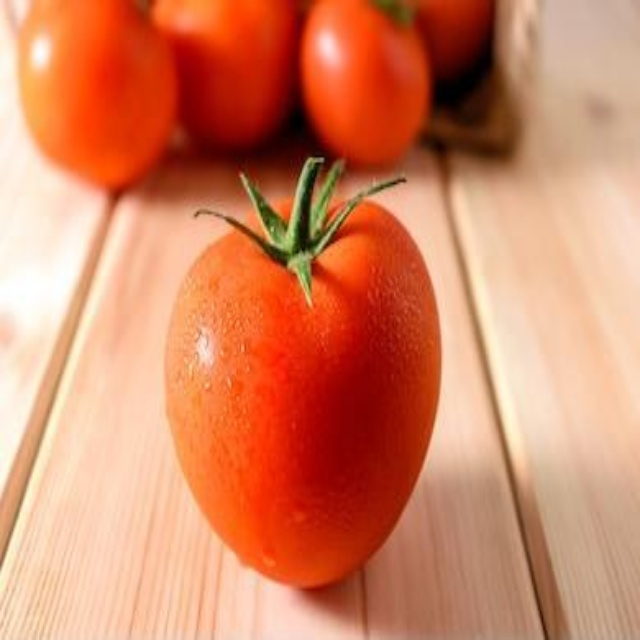tomato: (167, 202, 455, 586), (282, 4, 457, 177), (17, 4, 179, 177), (160, 2, 305, 155)
